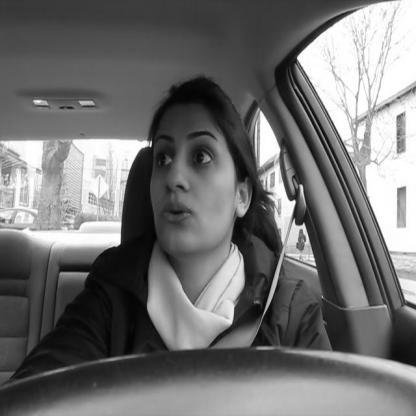seatbelt: (145, 70, 309, 349)
